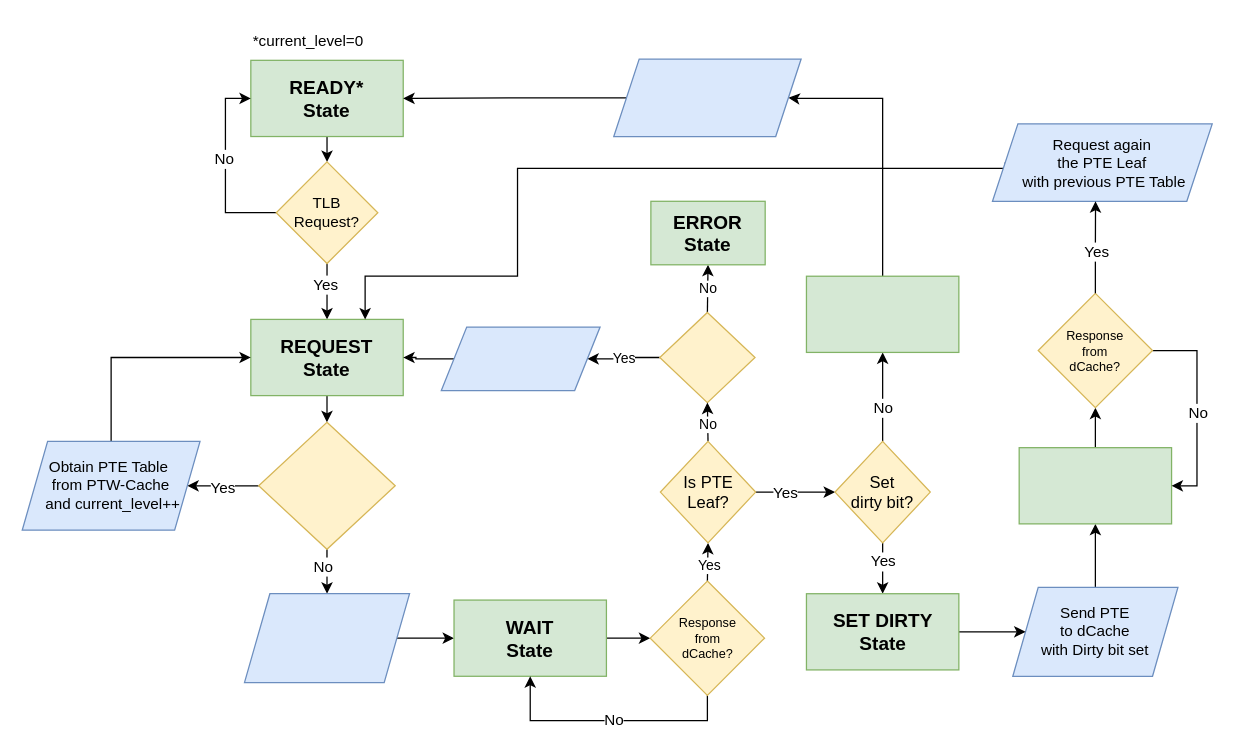
This 1234x753 diagram has some shape labels left out. Each missing label, with the box of its shape:
Add PTE to PTW-Cache and current_level++: (440, 326, 600, 391)
DONE State: (805, 275, 959, 352)
Is PTE Table?: (658, 311, 755, 403)
PTE in PTW-Cache & current_lelvel < LEVELS-1?: (257, 421, 395, 549)
Response TLB with the PTE Leaf: (613, 58, 801, 137)
Send Request to dCache: (243, 592, 410, 683)
WAIT DIRTY State: (1018, 446, 1172, 524)
